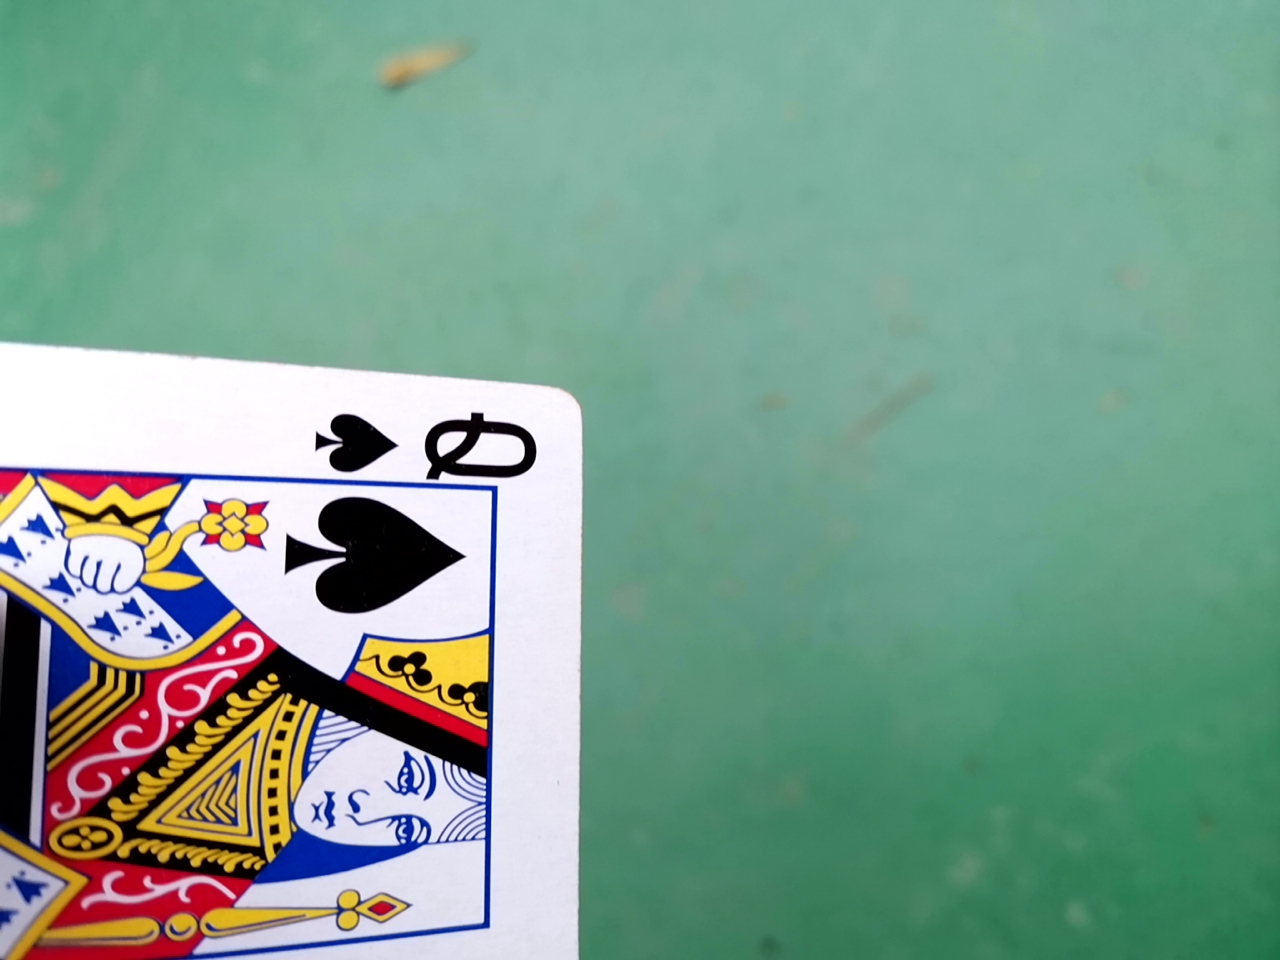ht q: (7, 310, 597, 955)
